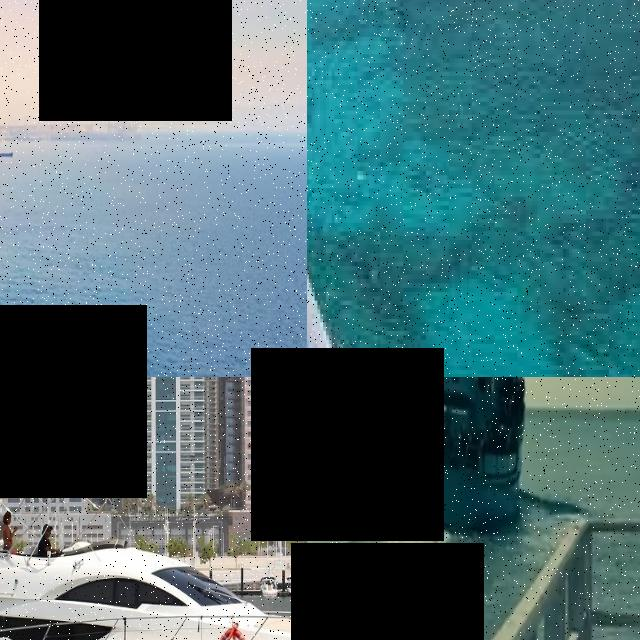cargo ship: (1, 165, 127, 378)
cruise ship: (1, 447, 308, 640)
sailing boat: (308, 1, 405, 378)
warship: (400, 378, 546, 574)
